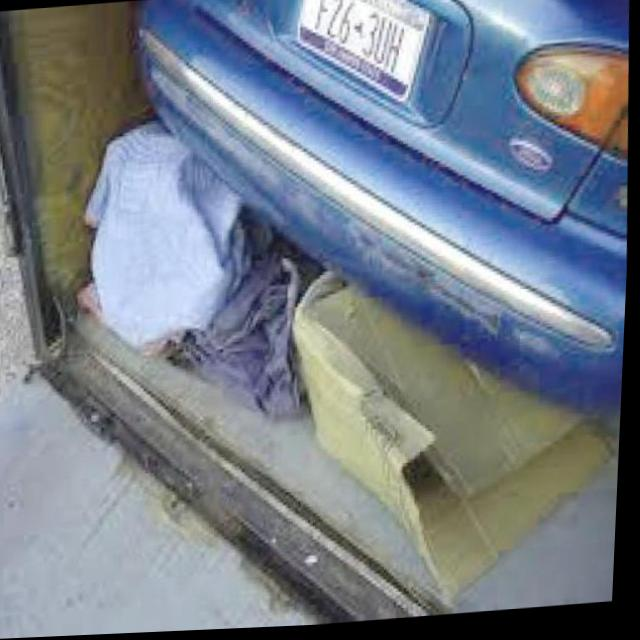Car-Damage: (134, 45, 566, 380)
